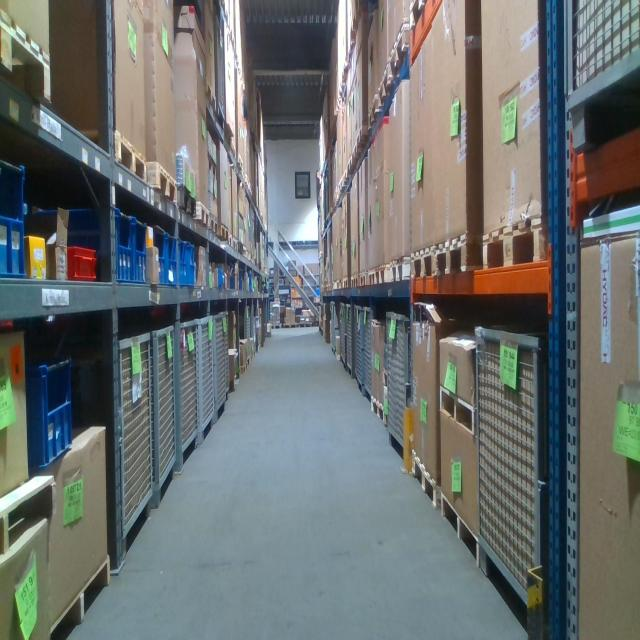pallet: (3, 463, 55, 566), (52, 550, 110, 639), (1, 14, 54, 110), (78, 124, 147, 185), (481, 214, 549, 272), (440, 491, 479, 571), (435, 234, 480, 284), (440, 379, 476, 438), (410, 451, 437, 512), (144, 159, 178, 206), (388, 21, 413, 80), (410, 244, 436, 289), (390, 252, 410, 289), (369, 396, 387, 426), (178, 186, 195, 217), (194, 201, 211, 231), (376, 76, 387, 115), (374, 264, 388, 294), (205, 77, 217, 112), (209, 214, 221, 238), (349, 151, 360, 175), (359, 270, 370, 291), (220, 223, 230, 246), (357, 128, 364, 158), (368, 268, 376, 289), (369, 106, 376, 130), (340, 278, 352, 290), (298, 322, 314, 328), (343, 168, 348, 185), (232, 237, 238, 251), (283, 322, 297, 328), (352, 278, 360, 288), (249, 180, 253, 196), (339, 179, 343, 193), (271, 324, 282, 329), (355, 150, 356, 154)
small_load_carrier: (26, 205, 134, 289), (26, 348, 75, 478), (2, 157, 31, 282), (132, 215, 150, 290), (150, 227, 170, 286), (166, 232, 178, 291), (178, 237, 188, 290), (188, 240, 197, 287)
stillage: (73, 322, 157, 564), (476, 326, 546, 610), (567, 1, 639, 163), (382, 310, 420, 464), (154, 318, 178, 506), (173, 316, 200, 477), (198, 314, 215, 442), (364, 306, 381, 406), (352, 300, 369, 396), (213, 7, 226, 124), (214, 312, 226, 426), (346, 296, 360, 377), (240, 301, 252, 370), (329, 298, 341, 354), (339, 297, 347, 371), (227, 309, 233, 406)
